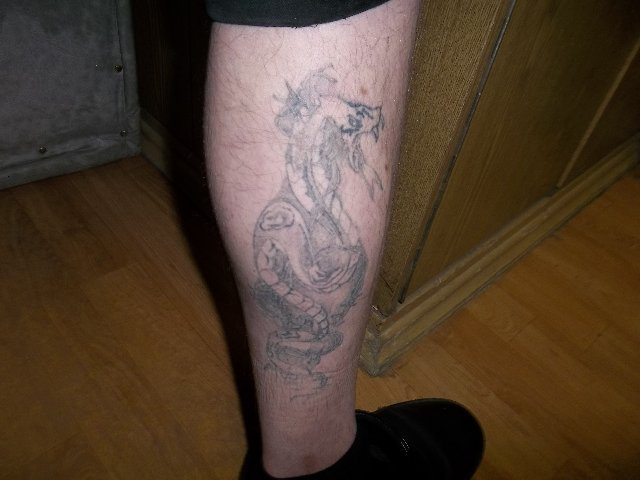tatu7_zmeya: (243, 69, 398, 396)
